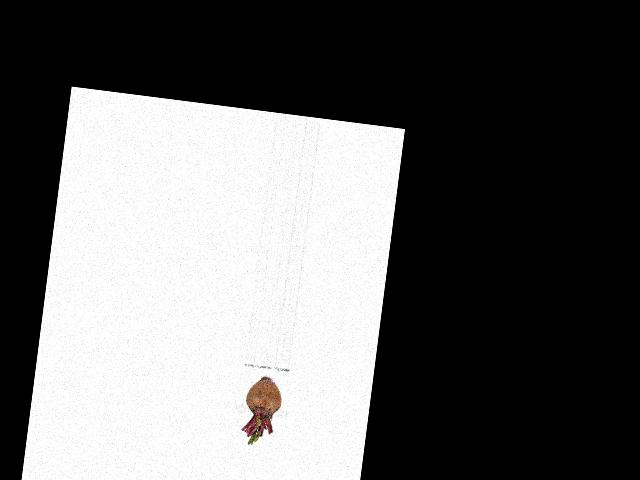beet: (239, 375, 284, 447)
